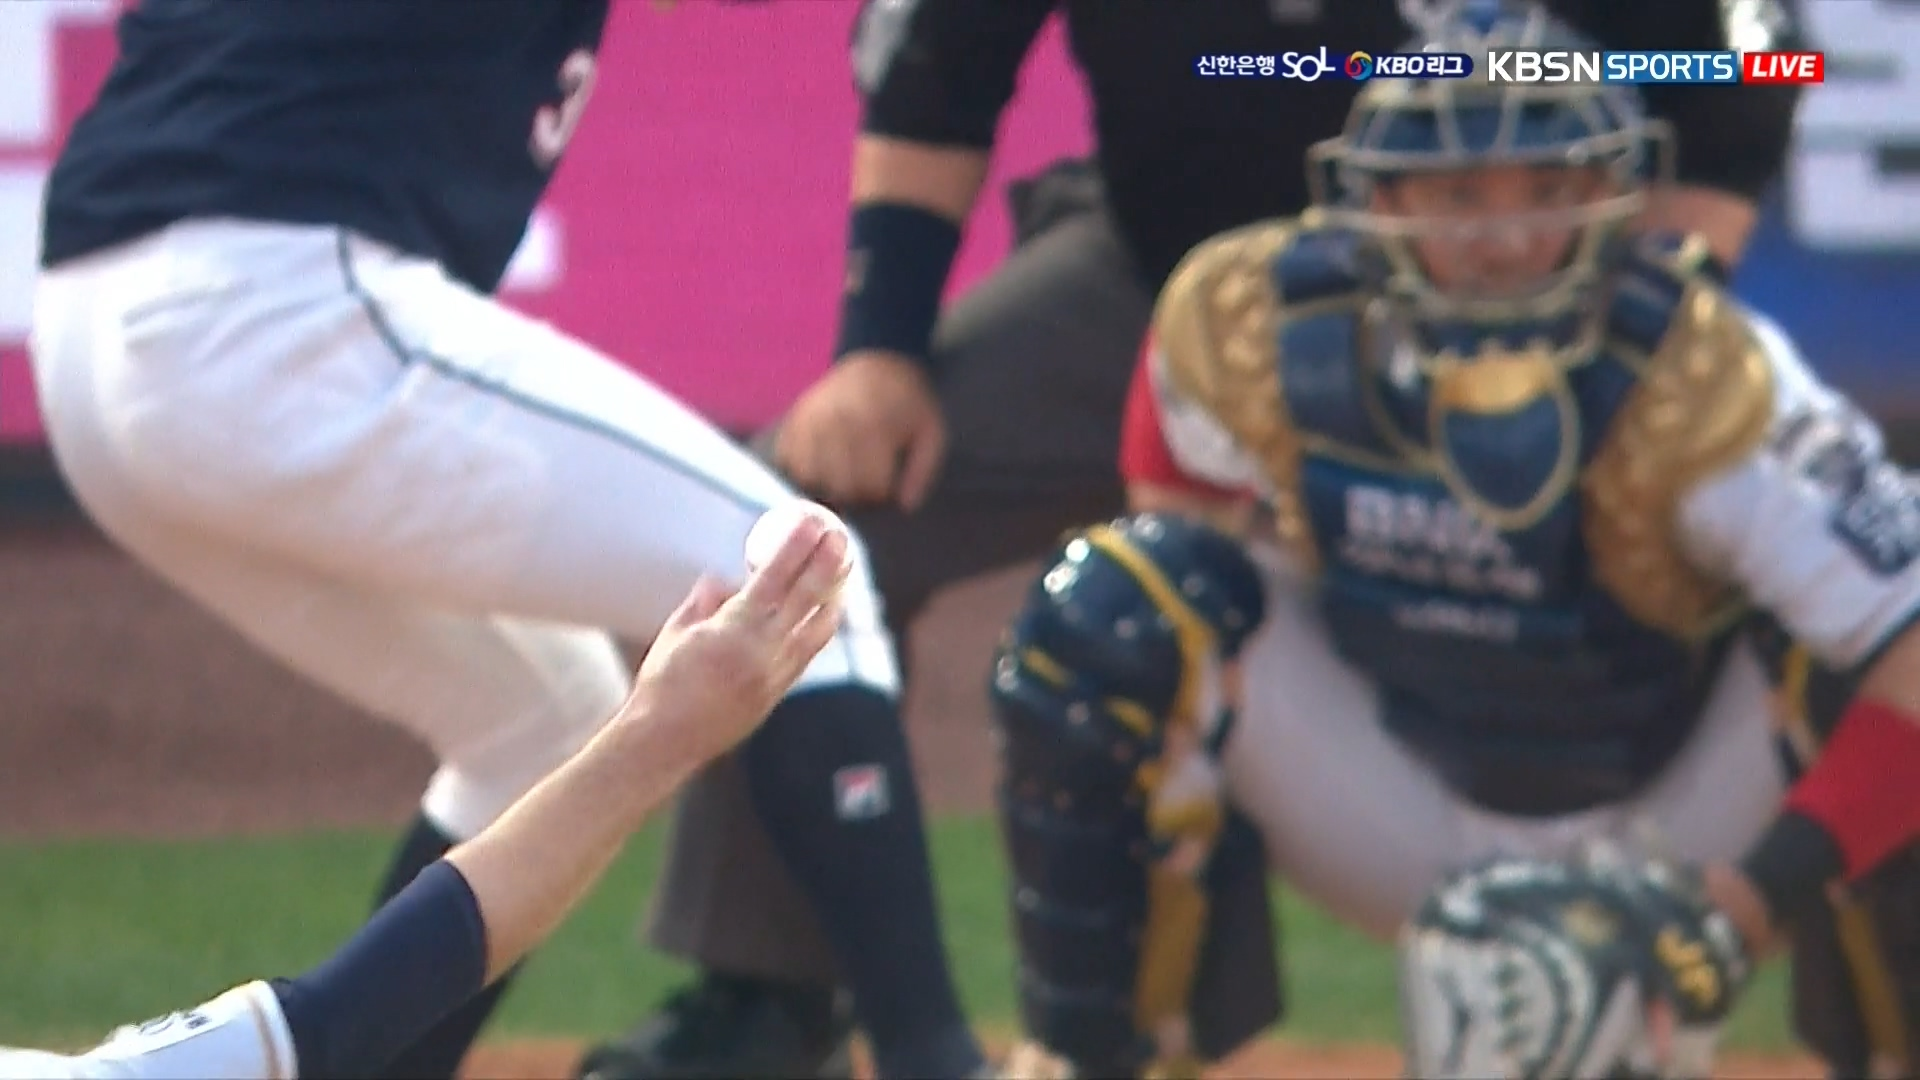zoomin_hand: (342, 475, 891, 1034)
